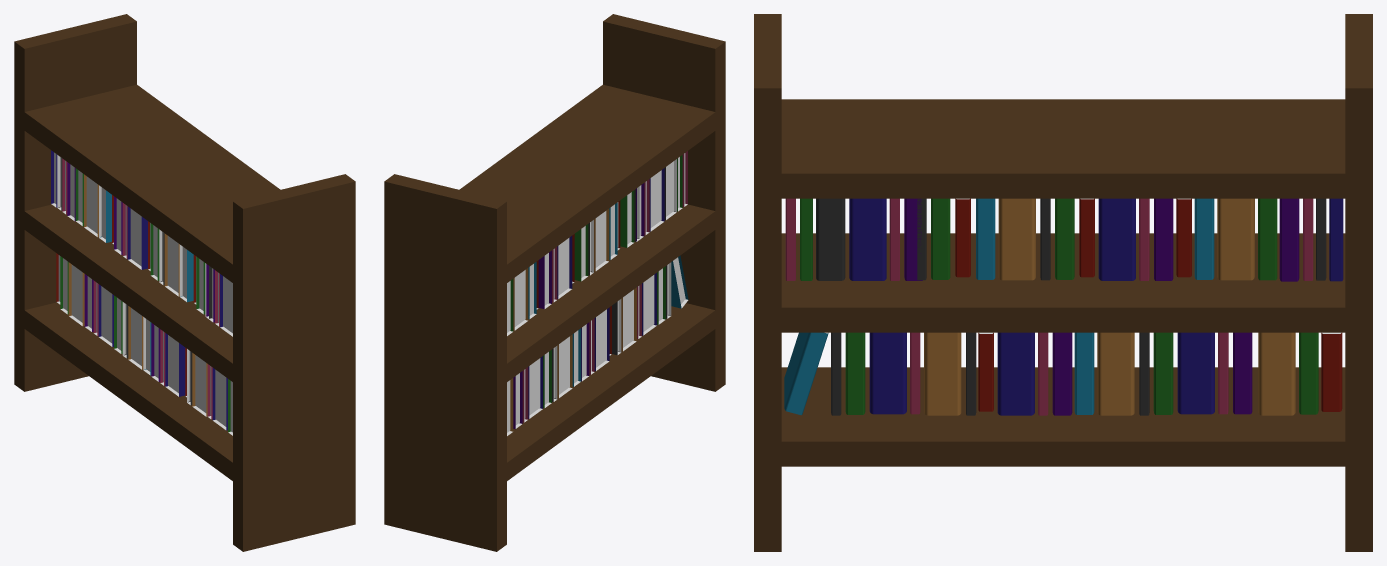
File: bookshelf.fbx
3 renders of one model, left to right at view 1: azimuth 30°, elevation 25°; view 2: azimuth 150°, elevation 25°; view 3: azimuth 270°, elevation 25°, orthographic. The views are drawn at different scales.
Visible parts, largest first — view 1: Shelf, book.006, book.015, book.026, book.036, book.009, book.012, book.030, book.025, book.021, book.001, book.033 (+11 smaller); view 2: Shelf, book.006, book.009, book.036, book.033, book.015, book.012, book.021, book.025, book.030, book.005, book.017 (+11 smaller); view 3: Shelf, book.026, book.009, book.006, book.036, book.015, book.033, book.021, book.012, book.030, book.025, book.044 (+35 smaller).
Boxes of the visible parts, <box> form: Shelf: <box>14,14,355,551</box>; book.006: <box>165,333,185,396</box>; book.015: <box>127,206,147,269</box>; book.026: <box>68,262,84,326</box>; book.036: <box>192,353,207,416</box>; book.009: <box>128,306,143,369</box>; book.012: <box>164,233,179,296</box>; book.030: <box>212,368,227,430</box>; book.025: <box>98,284,113,346</box>; book.021: <box>84,174,98,237</box>; book.001: <box>179,244,193,302</box>; book.033: <box>220,274,232,336</box>; Shelf: <box>384,14,725,551</box>; book.006: <box>594,307,609,371</box>; book.009: <box>557,334,572,398</box>; book.036: <box>621,287,636,351</box>; book.033: <box>649,168,664,231</box>; book.015: <box>557,236,572,299</box>; book.012: <box>594,208,609,271</box>; book.021: <box>513,268,528,330</box>; book.025: <box>528,356,542,418</box>; book.030: <box>642,273,656,335</box>; book.005: <box>574,224,588,281</box>; book.017: <box>620,190,634,247</box>; Shelf: <box>754,14,1372,551</box>; book.026: <box>1258,332,1295,415</box>; book.009: <box>1097,332,1134,415</box>; book.006: <box>997,332,1034,415</box>; book.036: <box>924,332,961,415</box>; book.015: <box>1098,198,1135,280</box>; book.033: <box>849,198,886,280</box>; book.021: <box>1217,198,1254,280</box>; book.012: <box>998,198,1035,280</box>; book.030: <box>869,332,906,414</box>; book.025: <box>1177,332,1214,414</box>; book.044: <box>816,198,845,280</box>.
Bounding box in the file's own units: 178 × 519 × 628.
